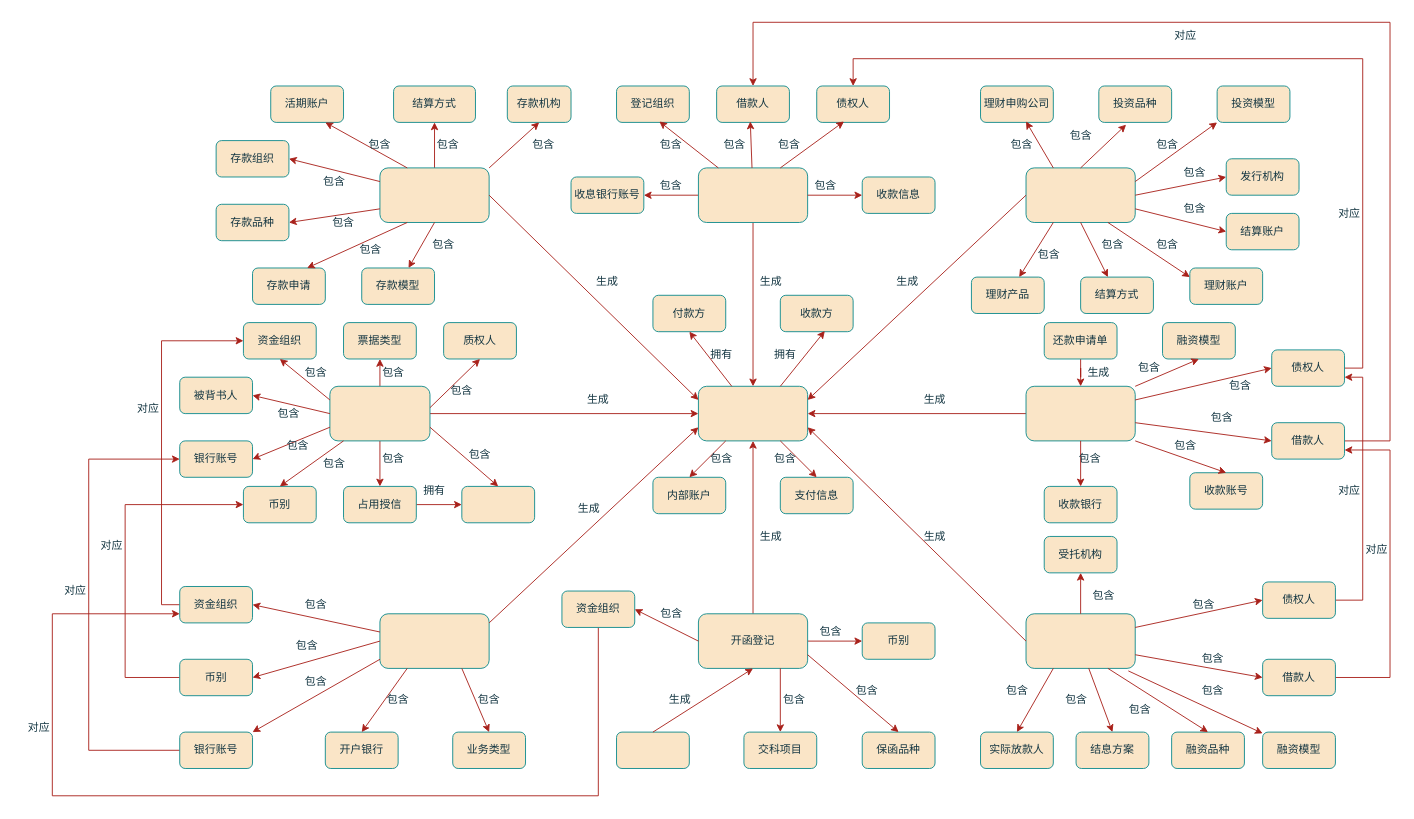
Some shapes in this 1414 by 819 pixel diagram are drawn without their labels. The shapes that lost their labels are listed below. From the top down, each one's box as (x1, y1, x2, y2) in pixels, then its label:
(379, 167, 489, 222): 通知存款处理
(698, 167, 808, 222): 付息处理
(1025, 167, 1135, 222): 理财申购
(329, 385, 430, 441): 业务处理
(698, 385, 808, 441): 付款处理
(1025, 385, 1135, 441): 还款处理
(461, 485, 535, 523): 授信类别
(379, 613, 489, 668): 交易明细
(1025, 613, 1135, 668): 放款处理
(616, 731, 689, 768): 保函申请
